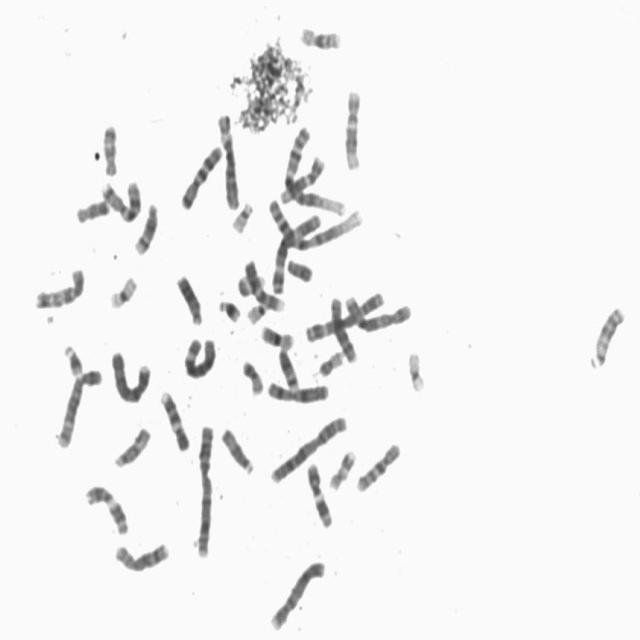A1: (281, 120, 348, 217), (264, 192, 364, 252)
A2: (266, 408, 350, 486), (191, 416, 217, 560)
A3: (268, 207, 324, 295), (302, 285, 386, 343)
B4: (266, 554, 328, 632), (108, 343, 154, 405)
B5: (52, 361, 104, 450), (342, 288, 413, 333)
C10: (352, 436, 404, 494), (31, 261, 87, 311)
C11: (81, 478, 131, 536), (304, 456, 336, 530)
C12: (276, 150, 327, 204), (340, 82, 364, 172)
C6: (213, 106, 242, 211), (180, 330, 218, 380)
C7: (176, 137, 224, 210), (97, 172, 143, 222)
C8: (110, 534, 172, 574), (326, 291, 360, 363)
C9: (241, 255, 286, 313), (156, 383, 192, 452)
D13: (586, 299, 626, 371), (172, 268, 204, 326)
D14: (130, 196, 160, 256), (274, 341, 301, 391)
D15: (110, 420, 153, 470), (218, 422, 256, 476)
E16: (296, 18, 344, 51), (256, 319, 296, 350)
E17: (326, 444, 358, 492), (234, 271, 267, 300)
E18: (98, 116, 120, 178), (72, 192, 112, 224)
F19: (105, 269, 139, 310), (403, 343, 428, 393)
F20: (238, 353, 265, 396), (315, 344, 346, 378)
G21: (59, 337, 86, 379), (214, 292, 243, 323)
G22: (227, 194, 256, 234), (243, 296, 270, 325)
X: (264, 375, 332, 405)
Y: (284, 253, 315, 284)
